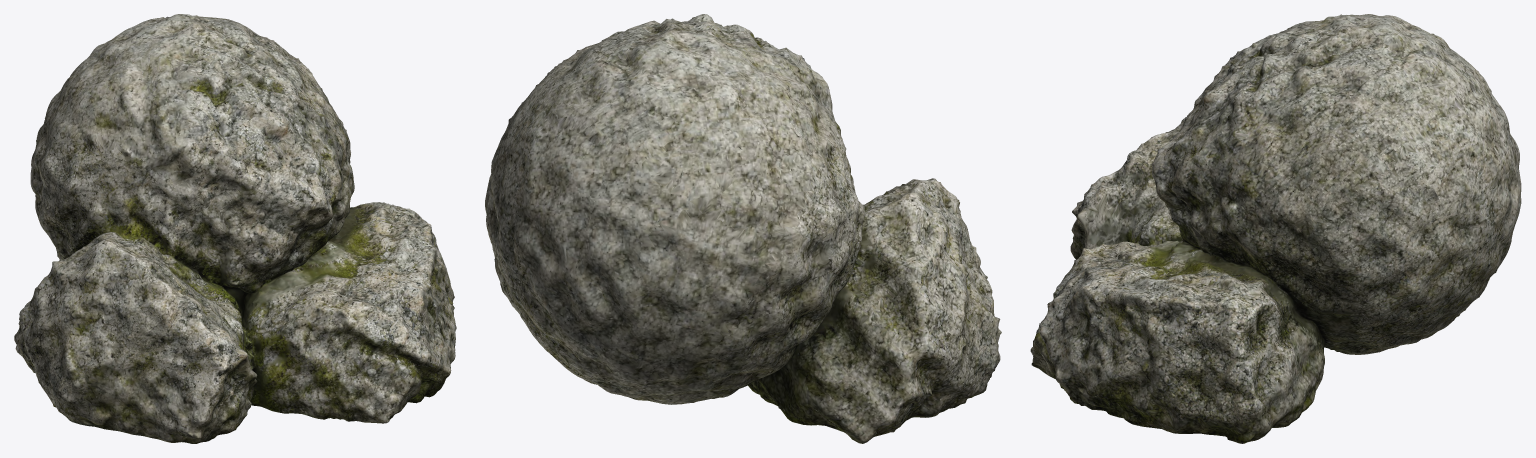
The model's file is 07_rock.glb.
3 renders of one model, left to right at view 1: azimuth 30°, elevation 25°; view 2: azimuth 150°, elevation 25°; view 3: azimuth 270°, elevation 25°, orthographic. The views are drawn at different scales.
Parts seen in each view (by area): view 1: tripo_07_rock; view 2: tripo_07_rock; view 3: tripo_07_rock.
Part boxes in pixels (box(x1,y1,x2,y2)): tripo_07_rock: box(14, 14, 456, 443); tripo_07_rock: box(485, 14, 1001, 443); tripo_07_rock: box(1030, 14, 1521, 443).
Bounding box in the file's own units: 1.39 × 1 × 1.39.
Materials: 1 (1 with a texture image).
